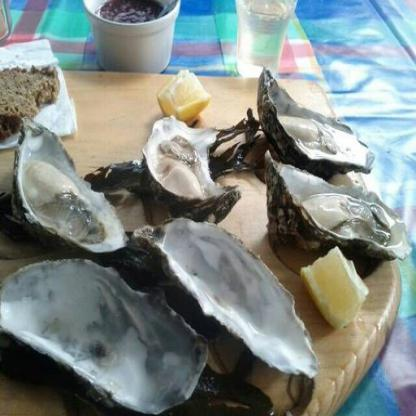oyster: (124, 212, 318, 386), (0, 255, 206, 415), (262, 152, 408, 275), (7, 116, 126, 264), (258, 61, 372, 182), (139, 119, 233, 222)
